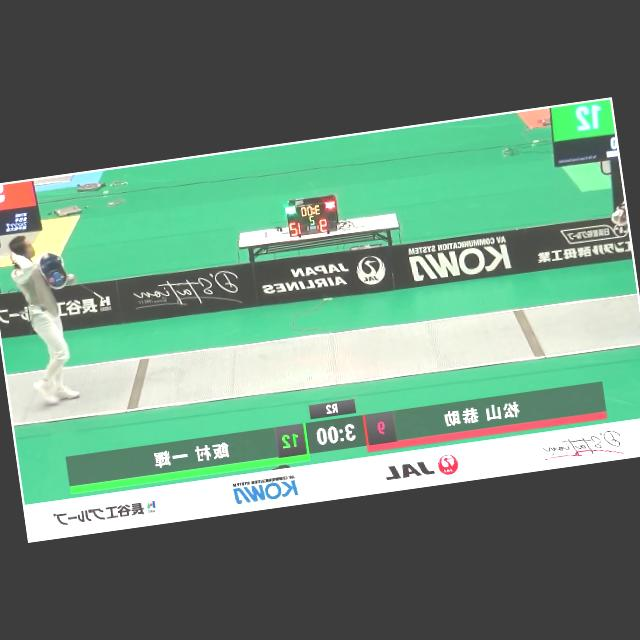blade: (61, 268, 108, 310)
